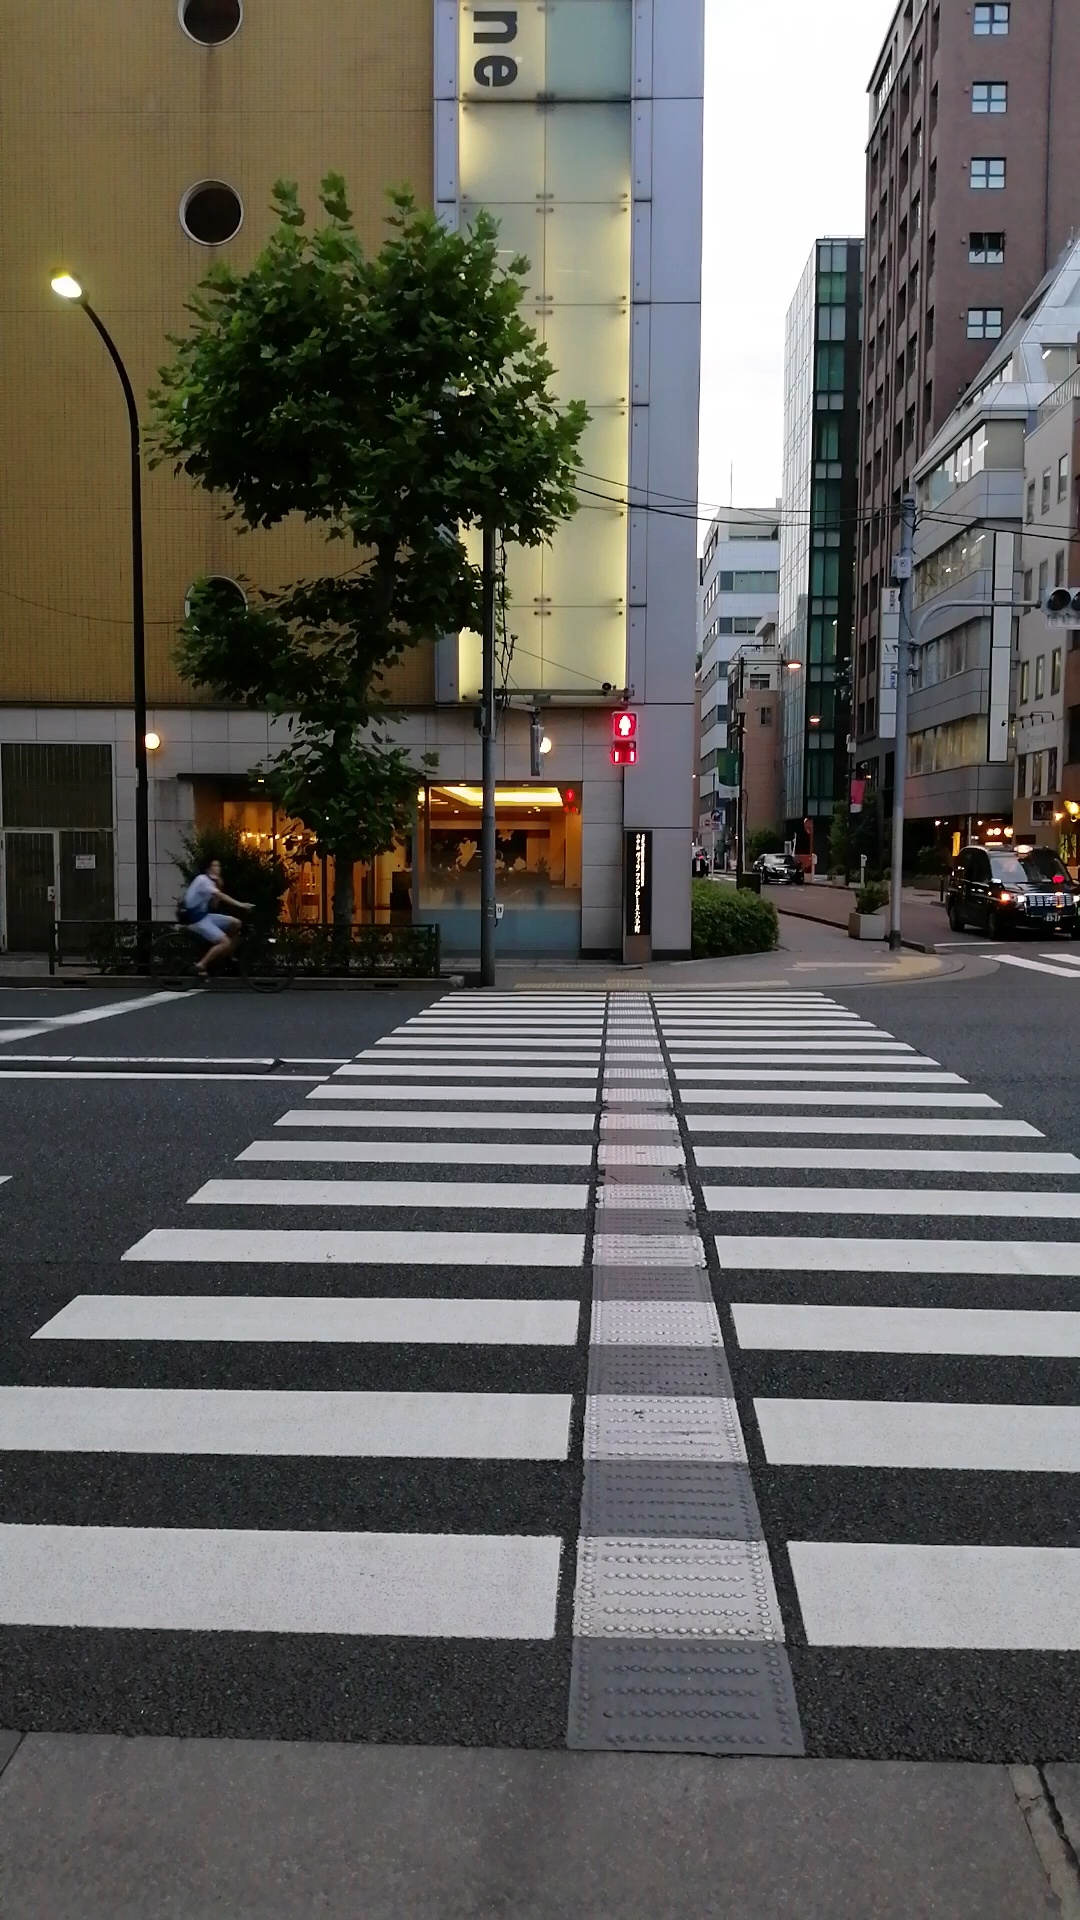red: (611, 709, 640, 766)
